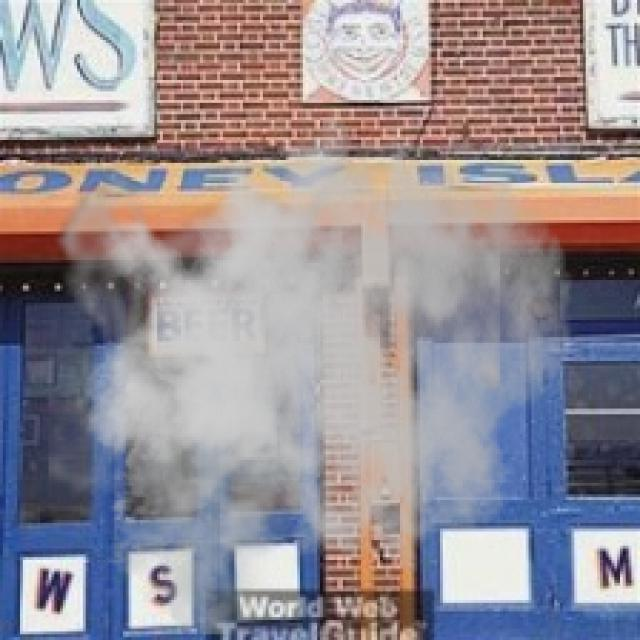Smoke: (48, 82, 574, 634)
